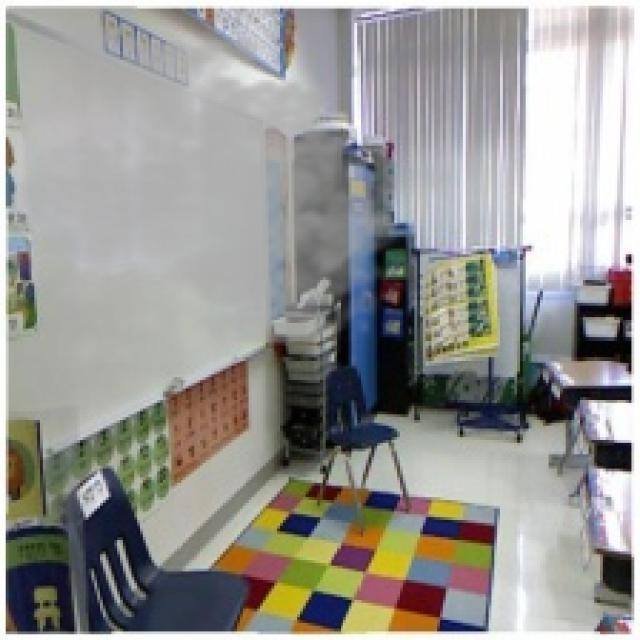smoke: (11, 12, 412, 354)
